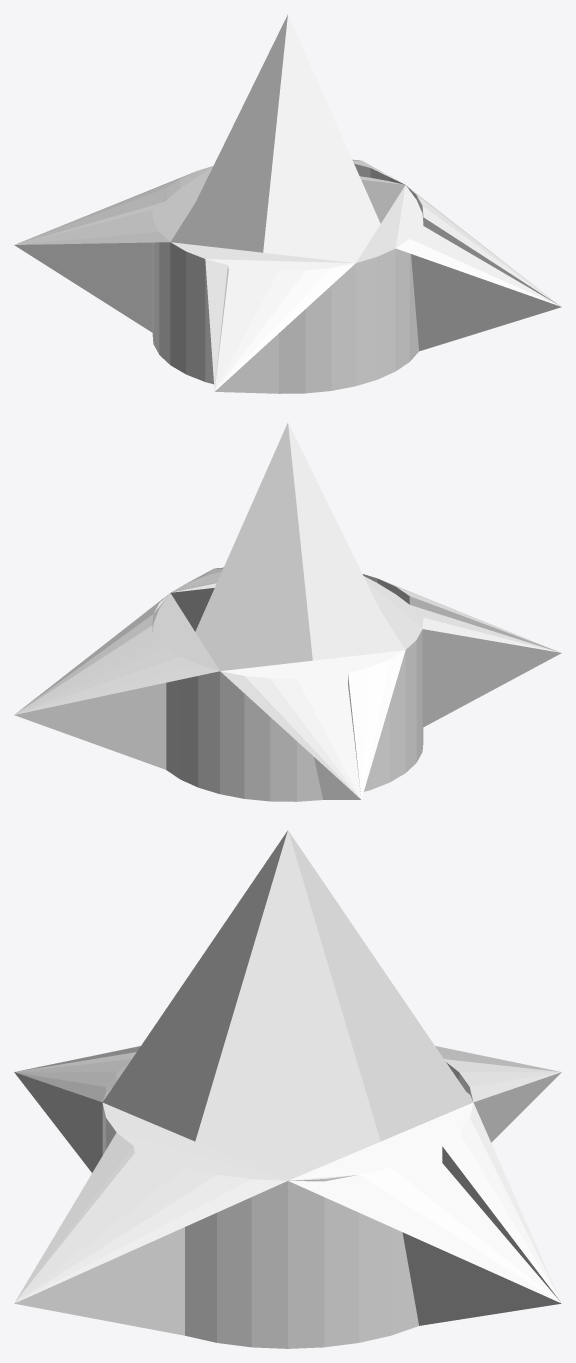
Rendered from WarpBubble.fbx.
The picture shows the model from 3 angles, top to bottom: view 1: azimuth 30°, elevation 25°; view 2: azimuth 150°, elevation 25°; view 3: azimuth 270°, elevation 25°; orthographic projection. The views are drawn at different scales.
Parts seen in each view (by area): view 1: Circle; view 2: Circle; view 3: Circle.
Part boxes in pixels (x1,y1,x2,y2): Circle: (14, 14, 561, 393); Circle: (14, 422, 561, 801); Circle: (14, 830, 561, 1348).
Size of the model in its own units: 295 by 262 by 295.
Materials: 1 (1 with a texture image).
